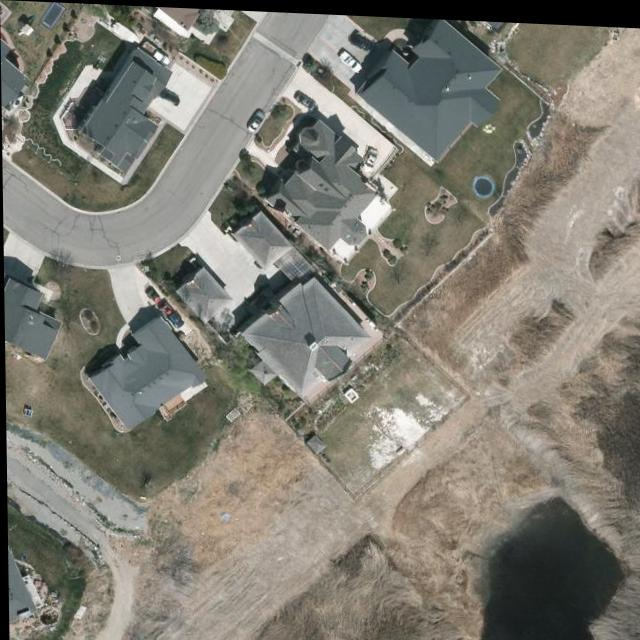vehicle: (155, 299, 184, 329), (346, 27, 377, 54), (140, 41, 174, 65), (293, 86, 318, 112), (247, 105, 267, 133), (339, 47, 364, 69), (360, 144, 378, 171), (156, 86, 180, 104)
